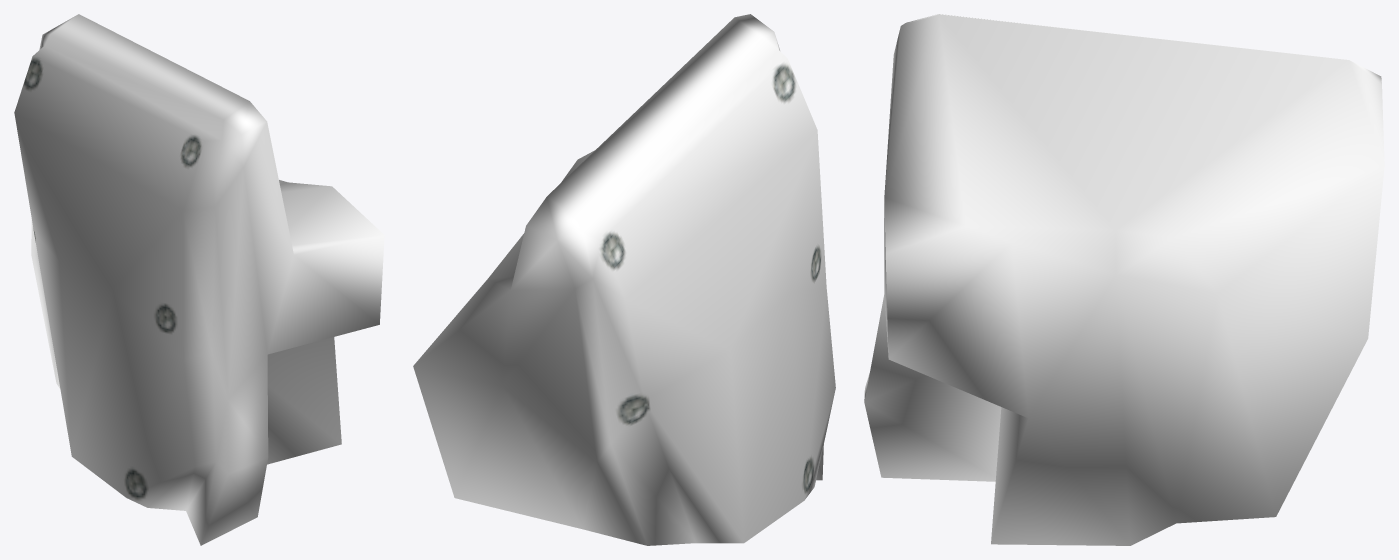
The model's file is palm_left.obj.
3 renders of one model, left to right at view 1: azimuth 30°, elevation 25°; view 2: azimuth 150°, elevation 25°; view 3: azimuth 270°, elevation 25°, orthographic. The views are drawn at different scales.
Bounding box in the file's own units: 0.0577 × 0.1075 × 0.1013.
1 material, 1 textured.
